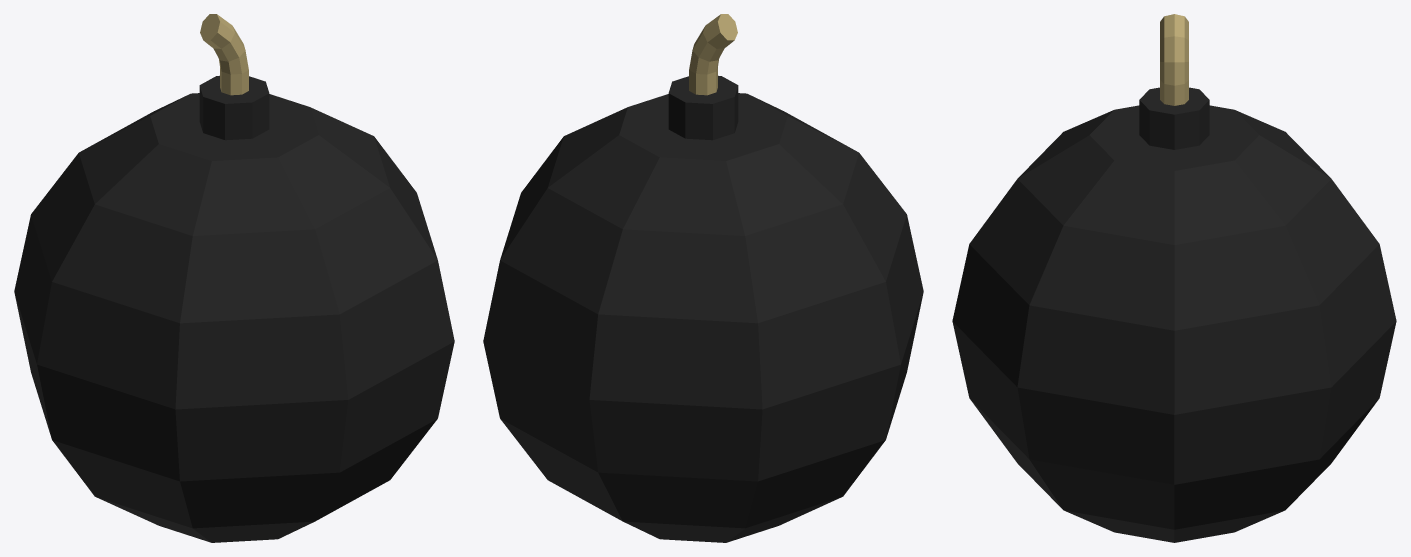
Rendered from Gade bomb.fbx.
3 renders of one model, left to right at view 1: azimuth 30°, elevation 25°; view 2: azimuth 150°, elevation 25°; view 3: azimuth 270°, elevation 25°, orthographic. The views are drawn at different scales.
Visible parts, largest first — view 1: Sphere; view 2: Sphere; view 3: Sphere.
Part boxes in pixels (x1,y1,x2,y2): Sphere: [14, 14, 454, 542]; Sphere: [483, 14, 923, 542]; Sphere: [952, 14, 1396, 542].
Bounding box in the file's own units: 200 × 248 × 200.
